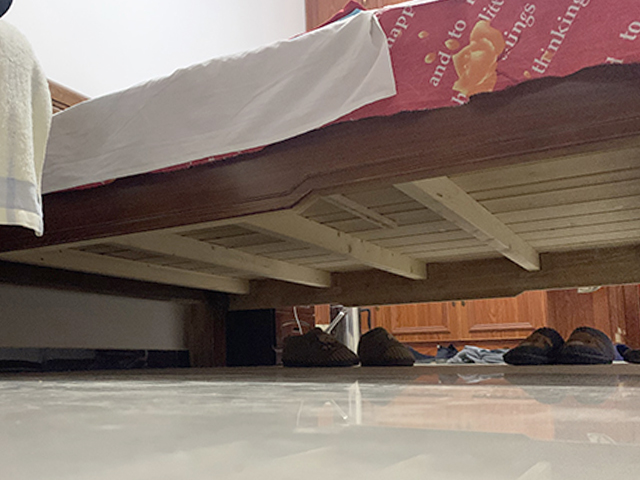bed: (1, 1, 639, 366)
cabinet: (225, 305, 317, 368)
slippers: (560, 326, 614, 366), (504, 325, 558, 365)
